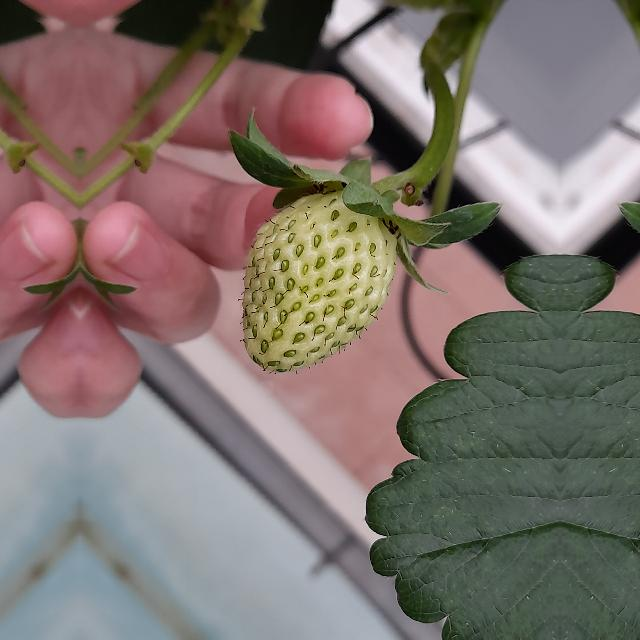Health_25: (242, 190, 396, 372)
